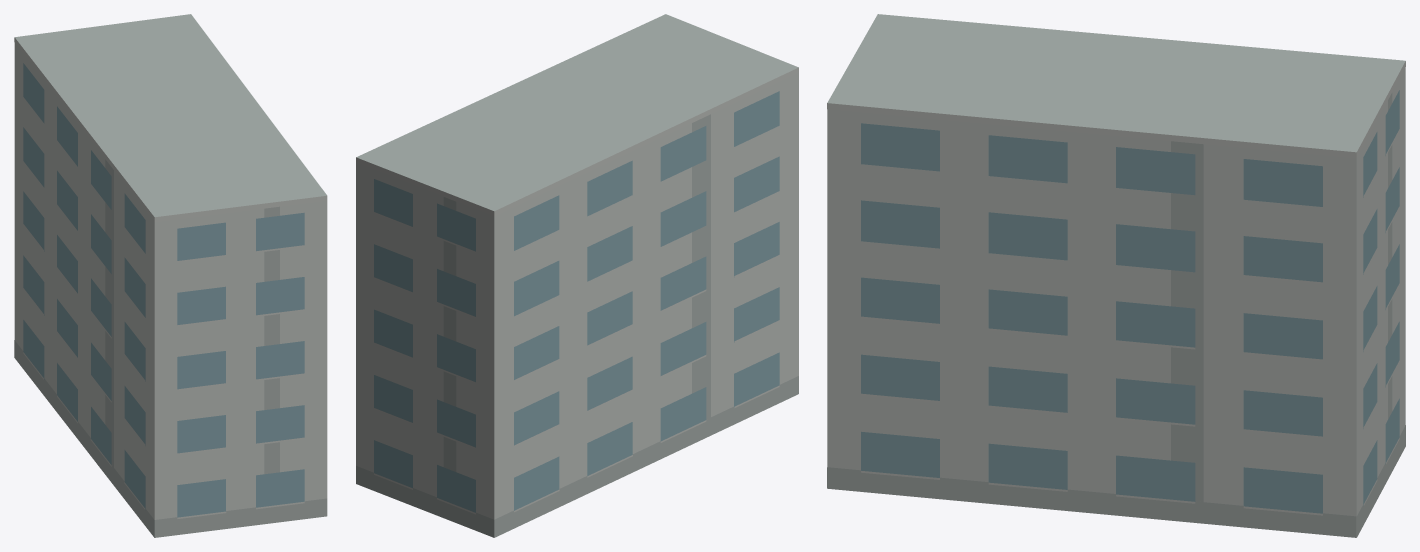
Rendered from residential-42fae23f-1889-4fee-8c21-cc131024c787.glb.
3 views of the same model, side by side, from view 1: azimuth 30°, elevation 25°; view 2: azimuth 150°, elevation 25°; view 3: azimuth 270°, elevation 25° (orthographic). The views are drawn at different scales.
Parts seen in each view (by area): view 1: residential-42fae23f-1889-4fee-8c21-cc131024c787.tmp; view 2: residential-42fae23f-1889-4fee-8c21-cc131024c787.tmp; view 3: residential-42fae23f-1889-4fee-8c21-cc131024c787.tmp.
Part boxes in pixels (<box>): residential-42fae23f-1889-4fee-8c21-cc131024c787.tmp: <box>14,14,327,537</box>; residential-42fae23f-1889-4fee-8c21-cc131024c787.tmp: <box>356,14,798,537</box>; residential-42fae23f-1889-4fee-8c21-cc131024c787.tmp: <box>827,14,1405,537</box>.
Bounding box in the file's own units: 11.74 × 15.25 × 20.75.
